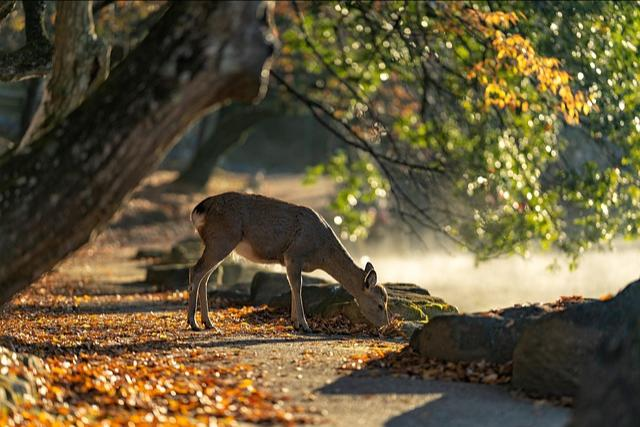Non_Gorille: (119, 109, 469, 375)
